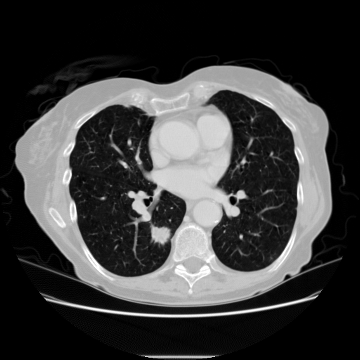nodule: (151, 225, 169, 243)
